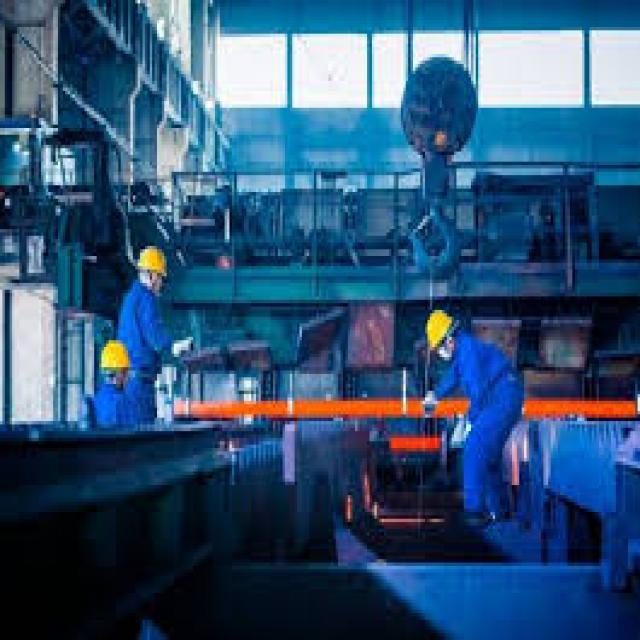Safety-Helmet: (416, 300, 462, 357), (94, 334, 133, 381), (133, 239, 171, 283)
